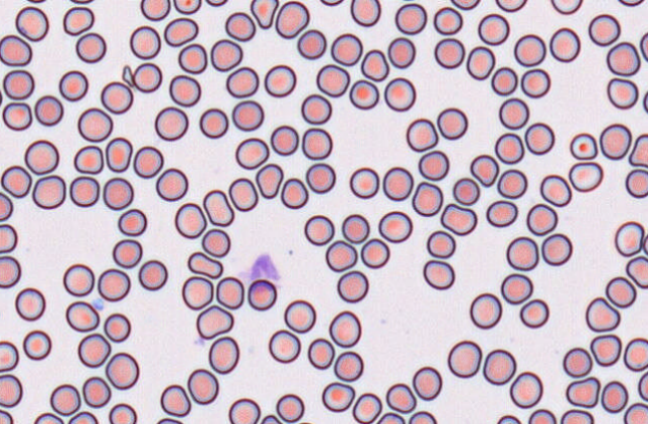RBC: (195, 304, 233, 339), (275, 0, 309, 38), (447, 340, 481, 378), (585, 296, 620, 332), (77, 107, 113, 142), (509, 371, 543, 408), (482, 348, 516, 385), (105, 352, 139, 389), (24, 139, 59, 174), (31, 174, 66, 209), (469, 292, 502, 329), (328, 310, 361, 347), (154, 106, 188, 141), (606, 41, 640, 76), (440, 203, 477, 235), (202, 189, 234, 226), (208, 336, 239, 374), (15, 6, 48, 41), (77, 333, 110, 368), (174, 202, 206, 238), (599, 123, 631, 159), (405, 118, 438, 152), (378, 210, 412, 243), (155, 167, 188, 201), (283, 299, 316, 333), (411, 181, 443, 216), (181, 275, 213, 310), (187, 368, 218, 404), (316, 64, 349, 97), (513, 33, 546, 66), (100, 81, 133, 114), (263, 64, 296, 97), (97, 268, 130, 301), (65, 300, 99, 332), (506, 236, 538, 270), (268, 329, 300, 363), (235, 137, 269, 169), (225, 66, 259, 98), (383, 77, 415, 111), (565, 376, 600, 407), (568, 161, 603, 192), (382, 166, 413, 201), (549, 27, 580, 62), (168, 74, 201, 106), (210, 38, 242, 71), (330, 33, 362, 66), (62, 263, 94, 296), (588, 13, 620, 46), (394, 2, 427, 34), (321, 381, 355, 412), (129, 25, 160, 59), (14, 287, 45, 321), (614, 221, 644, 256), (325, 239, 357, 271), (539, 174, 571, 206), (0, 34, 32, 66), (336, 270, 368, 302), (477, 13, 509, 45), (606, 77, 638, 109), (500, 273, 533, 304), (160, 384, 191, 417), (231, 100, 264, 131), (412, 366, 442, 400), (228, 177, 258, 211), (163, 17, 198, 46), (466, 45, 495, 80), (0, 165, 31, 197), (605, 276, 636, 308), (49, 383, 80, 415), (526, 203, 557, 235), (590, 334, 621, 366), (541, 233, 572, 265), (498, 97, 529, 129), (436, 107, 467, 139), (301, 127, 332, 159), (102, 177, 133, 209), (133, 145, 163, 178), (255, 163, 283, 198), (105, 136, 132, 172), (385, 382, 416, 413), (300, 93, 331, 124), (434, 37, 465, 68), (75, 32, 106, 63), (422, 259, 454, 289), (469, 154, 499, 186), (69, 175, 99, 207), (494, 132, 524, 164), (2, 69, 34, 99), (524, 122, 554, 154), (215, 276, 244, 309), (187, 251, 222, 278), (352, 392, 382, 423), (562, 346, 592, 377), (497, 168, 527, 199), (418, 150, 449, 180), (333, 350, 363, 381), (177, 43, 207, 74), (224, 11, 255, 41), (349, 167, 379, 198), (304, 214, 334, 245), (305, 162, 335, 193), (58, 70, 88, 101), (296, 28, 326, 59), (360, 49, 389, 81), (62, 6, 94, 35), (34, 94, 63, 126), (600, 380, 628, 413), (519, 298, 549, 328), (132, 62, 162, 92), (349, 79, 379, 109), (112, 238, 142, 268), (520, 68, 550, 98), (82, 376, 111, 407), (360, 237, 389, 268), (247, 279, 276, 310), (22, 329, 51, 360), (138, 259, 167, 290), (270, 124, 299, 155), (199, 107, 228, 138), (485, 199, 517, 227), (280, 177, 308, 209), (387, 36, 415, 68), (73, 145, 103, 174), (2, 101, 32, 130), (307, 337, 334, 369), (426, 229, 455, 258), (201, 228, 230, 257), (275, 393, 304, 422), (433, 6, 462, 35), (341, 213, 369, 243), (103, 312, 131, 342), (228, 397, 260, 423), (623, 337, 647, 371), (117, 208, 146, 236), (350, 0, 381, 26), (250, 0, 278, 28), (452, 177, 480, 205), (569, 132, 597, 160), (491, 66, 517, 95), (0, 373, 22, 407), (625, 255, 647, 288), (0, 255, 21, 288), (625, 168, 647, 198), (628, 133, 647, 167), (140, 0, 170, 21), (108, 402, 137, 423), (0, 340, 19, 371), (0, 223, 17, 253), (623, 402, 647, 423), (560, 409, 593, 423), (550, 0, 582, 14), (527, 408, 556, 423), (173, 0, 201, 14), (0, 191, 13, 221), (495, 0, 527, 12), (408, 410, 436, 423), (68, 411, 98, 423), (376, 411, 405, 423), (33, 412, 63, 423), (637, 370, 647, 401), (450, 0, 480, 10), (639, 32, 647, 61), (496, 414, 521, 423), (260, 414, 282, 423), (0, 409, 13, 423), (156, 417, 183, 423), (617, 0, 644, 6), (319, 0, 344, 6), (642, 89, 648, 113), (642, 232, 648, 255), (205, 0, 228, 6), (69, 0, 94, 4), (26, 0, 46, 3), (295, 421, 314, 424)
Schistocyte: (122, 66, 135, 88)
